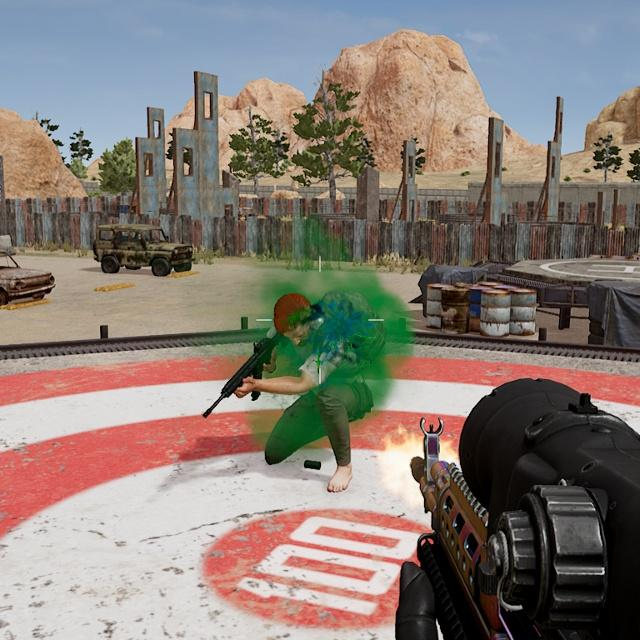head: (271, 291, 318, 344)
people: (251, 286, 375, 495)
